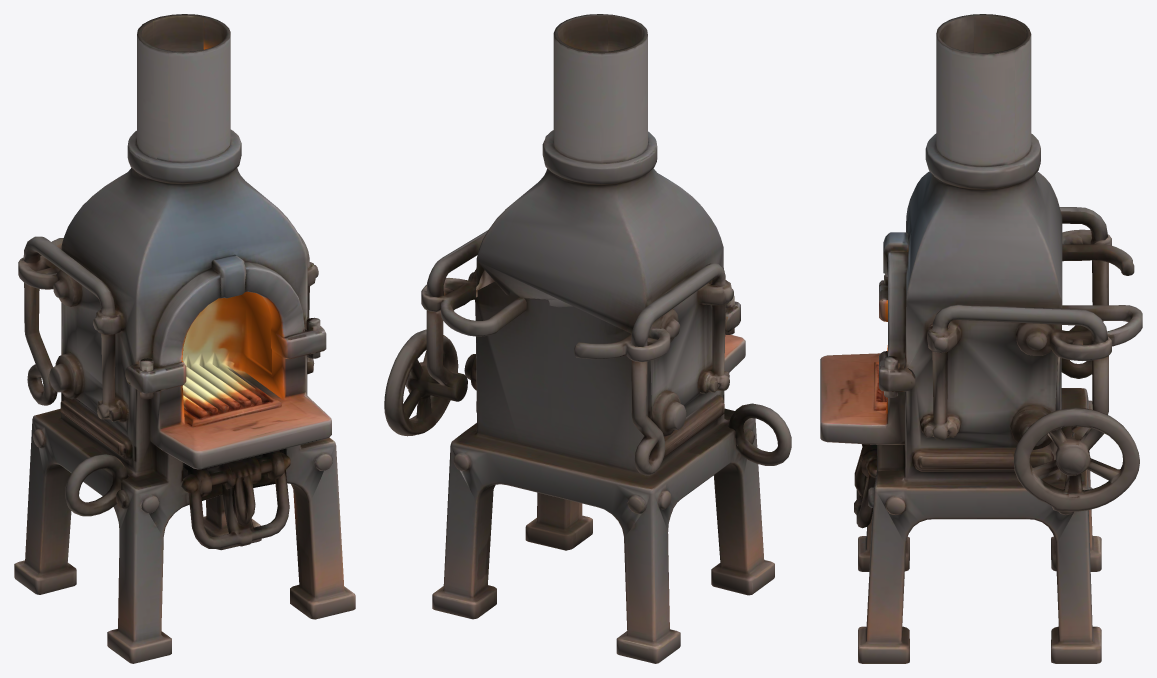
Rendered from forge_furnace_realistic_style_cfa5bdbf_v1.glb.
3 views of the same model, side by side, from view 1: azimuth 30°, elevation 25°; view 2: azimuth 150°, elevation 25°; view 3: azimuth 270°, elevation 25° (orthographic). The views are drawn at different scales.
Parts seen in each view (by area): view 1: texture_pbr_20250901; view 2: texture_pbr_20250901; view 3: texture_pbr_20250901.
Part boxes in pixels (x1,y1,x2,y2): texture_pbr_20250901: (14, 14, 355, 663); texture_pbr_20250901: (384, 14, 791, 663); texture_pbr_20250901: (820, 14, 1142, 663).
Bounding box in the file's own units: 1.06 × 1.9 × 0.9668.
Materials: 1 (1 with a texture image).
